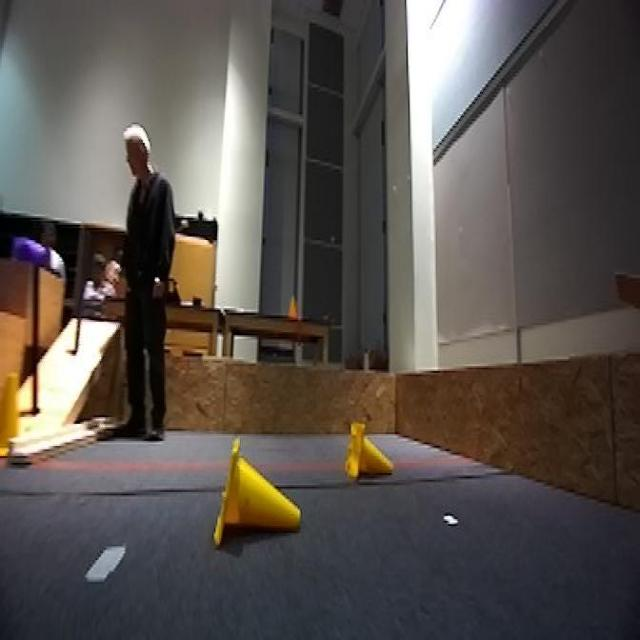frc_cone: (210, 441, 300, 550), (346, 419, 396, 483), (0, 369, 24, 458)
frc_cube: (12, 233, 56, 274)
